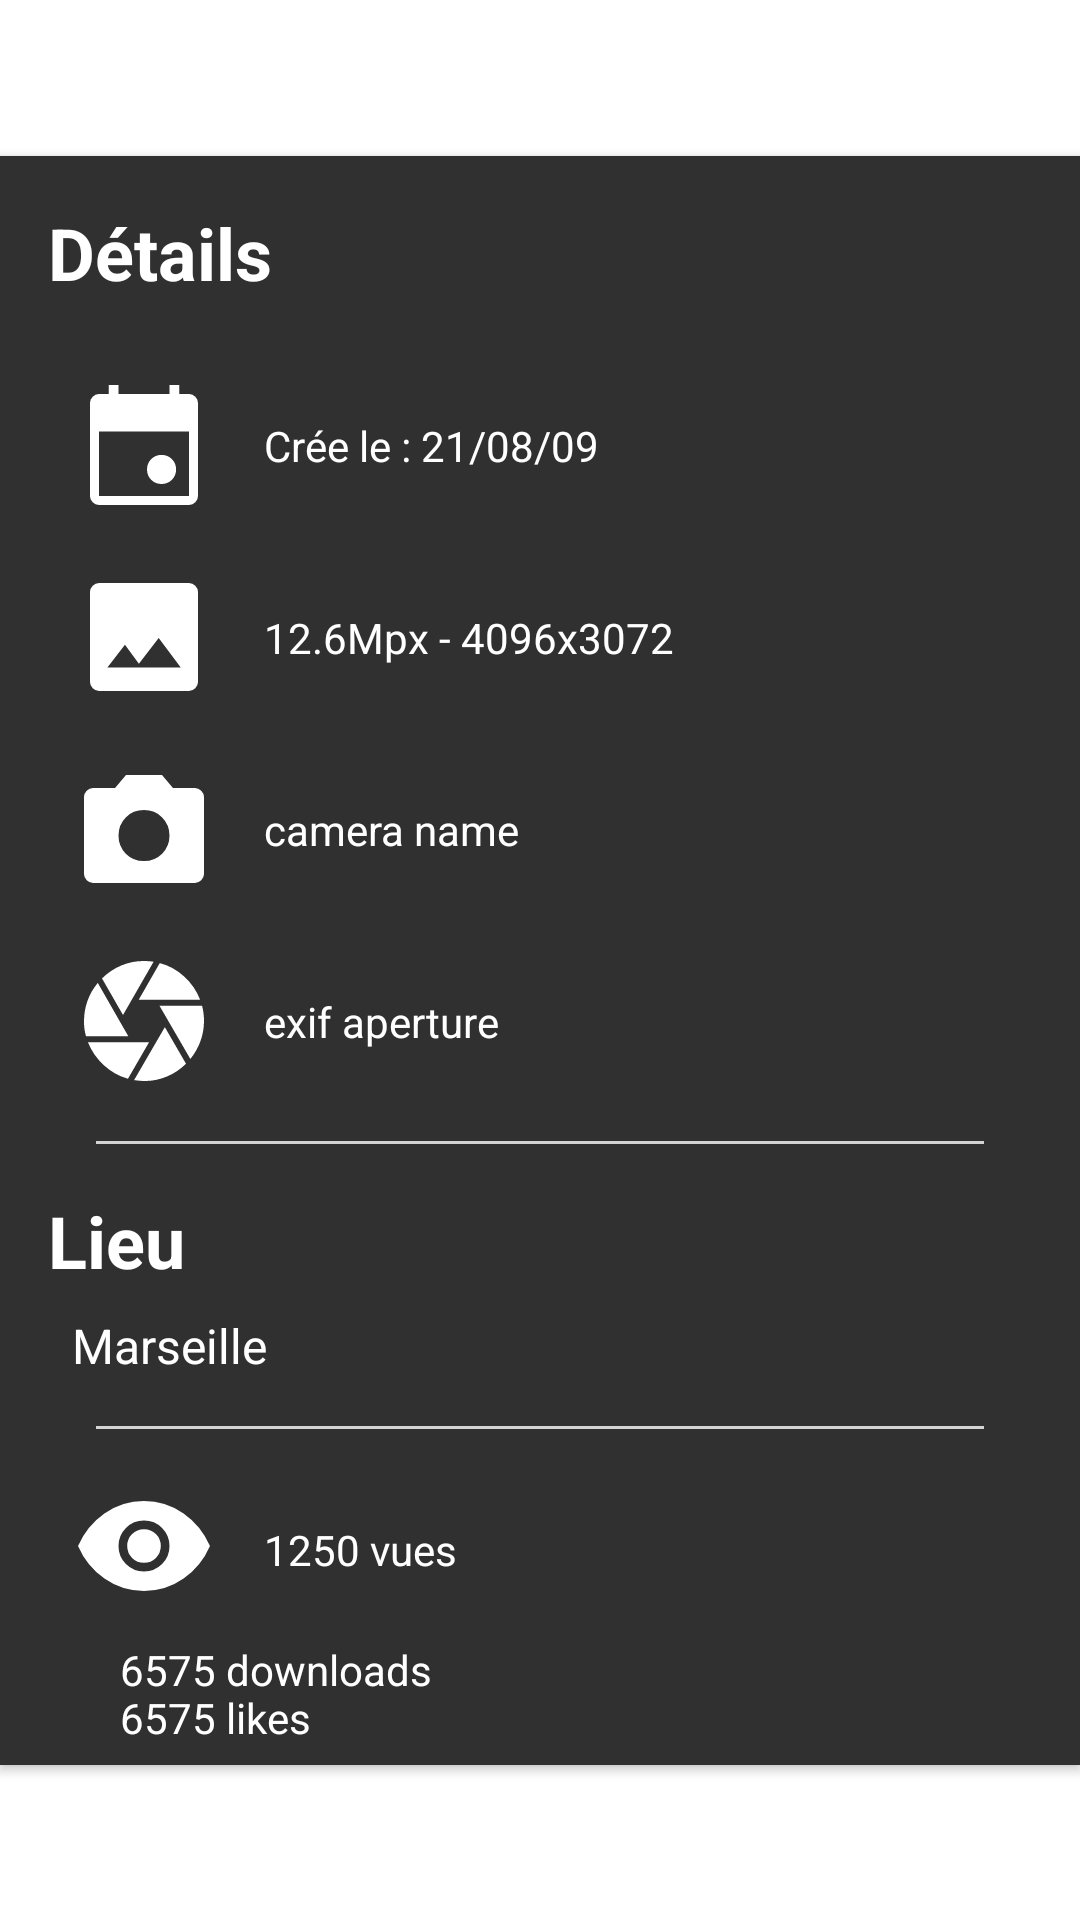

Icon click points for this 1080 × 1920 phone screenshot, format (x,y):
event: (144,445)
eye: (144,1546)
